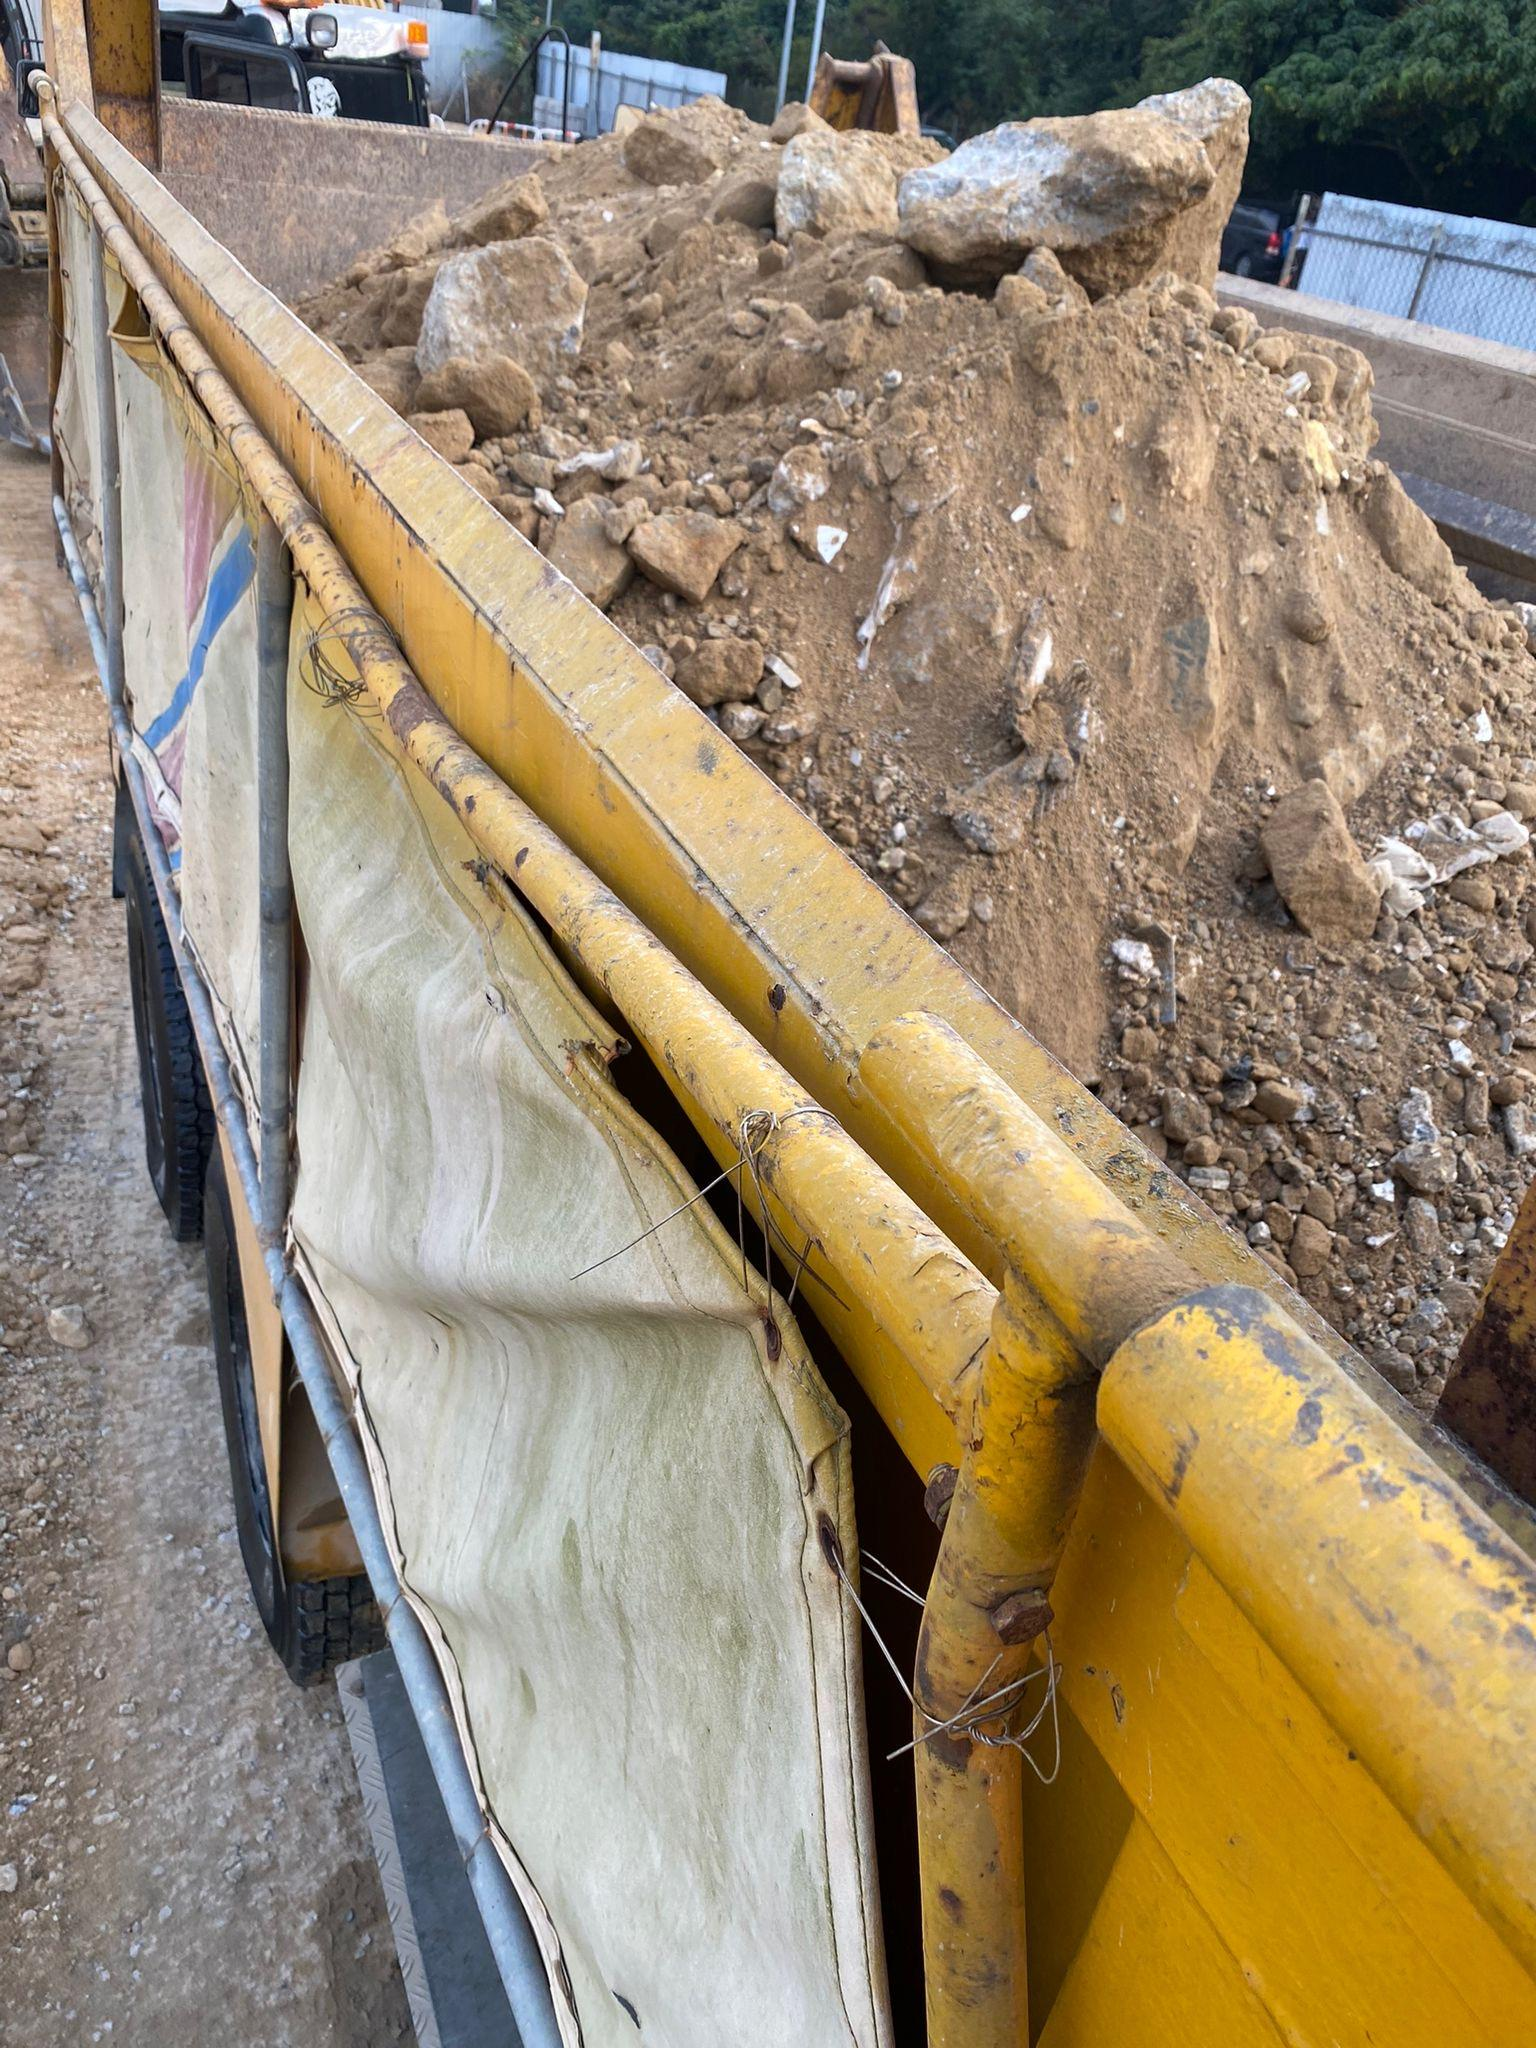stone: (282, 66, 1534, 1480), (892, 103, 1217, 284), (413, 232, 589, 392), (1257, 776, 1384, 942), (624, 505, 744, 601), (411, 352, 541, 439)
